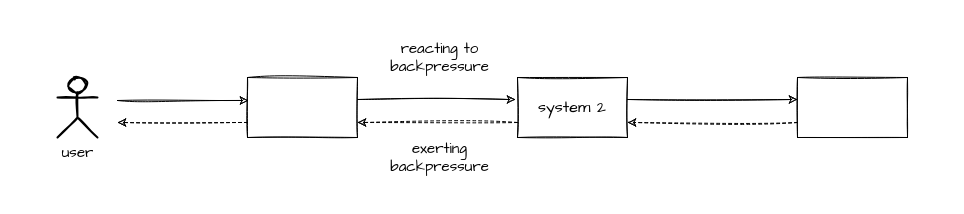
The diagram is 964 pixels wide and 214 high, and some of its shapes have lost their labels. Each missing label, with the centre of its shape:
system 1: (302,107)
system 3: (852,107)
